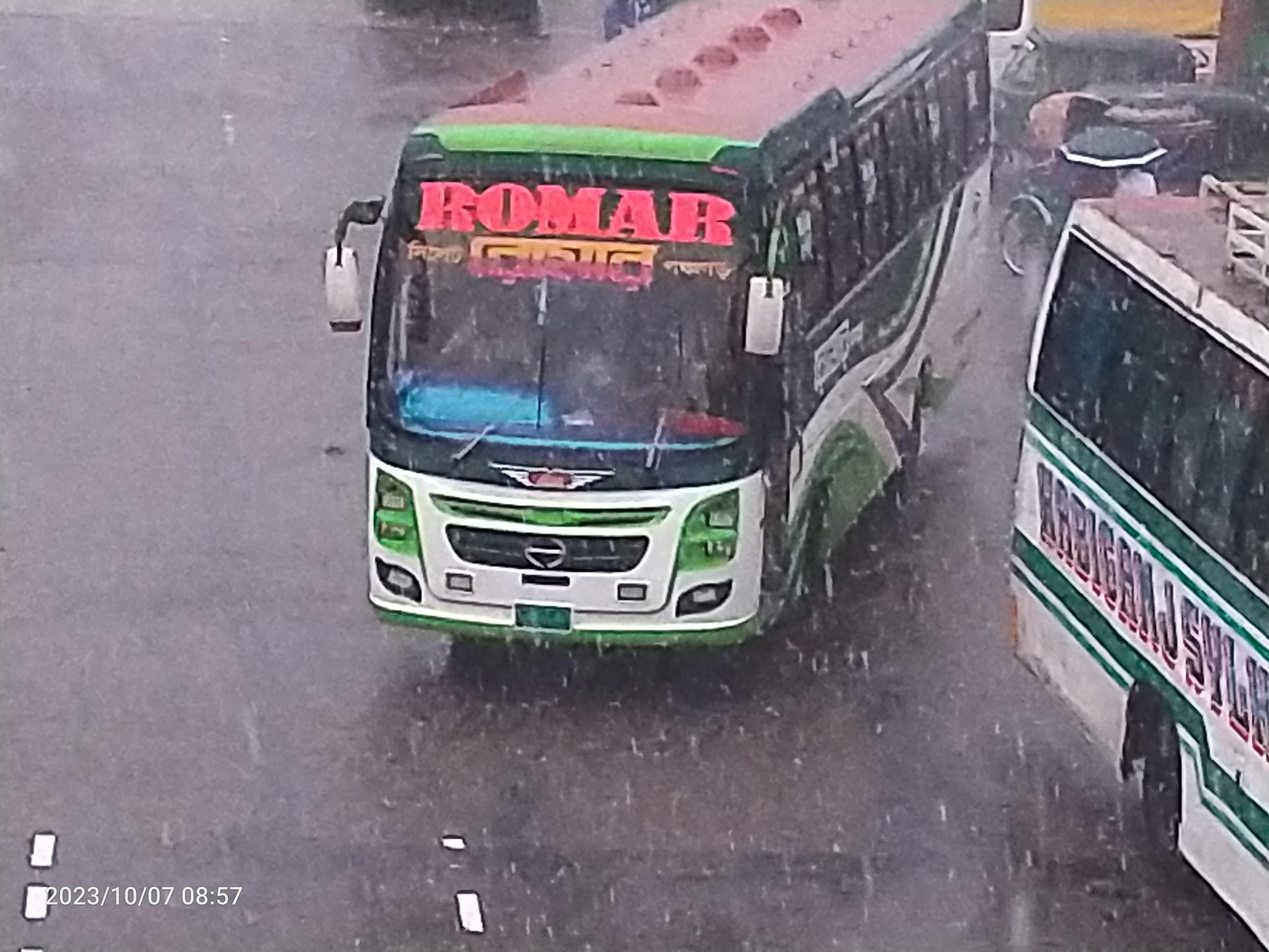Bus: (307, 0, 1035, 671), (986, 122, 1269, 952)
